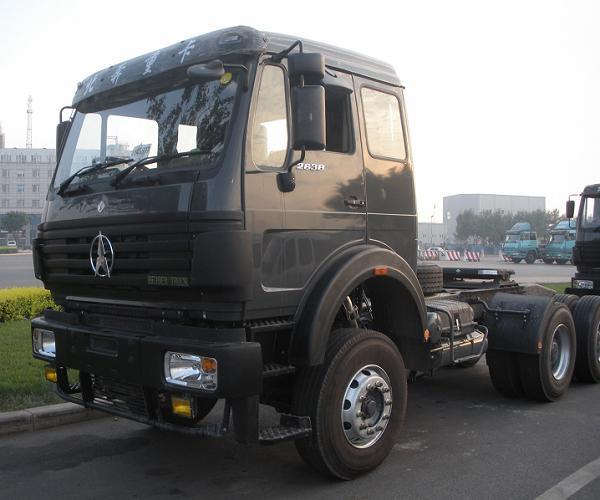truck: (41, 51, 492, 421), (505, 209, 579, 287)
